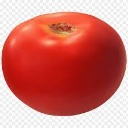tomato: (2, 11, 128, 117)
